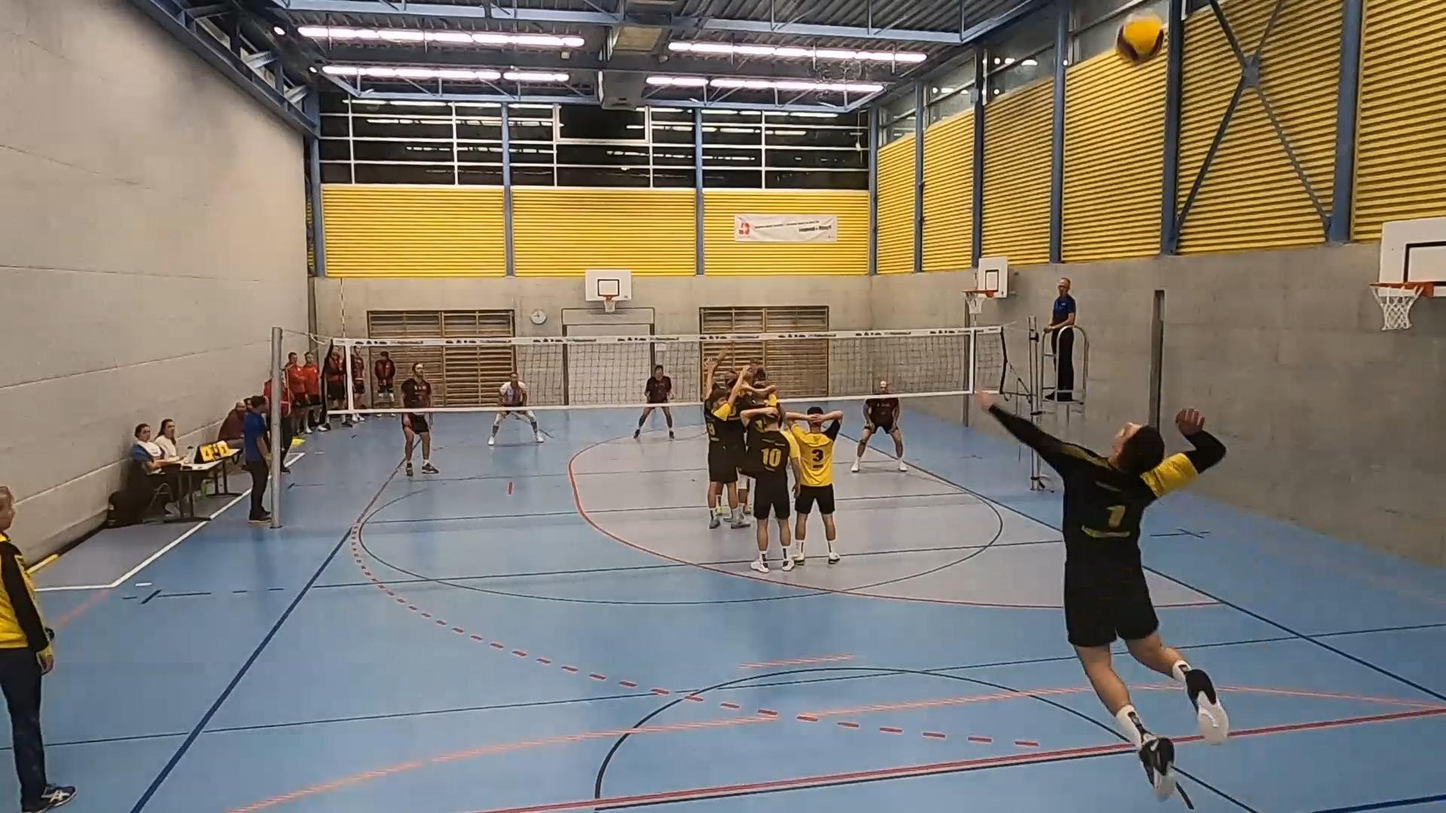battuta: (977, 386, 1233, 813)
